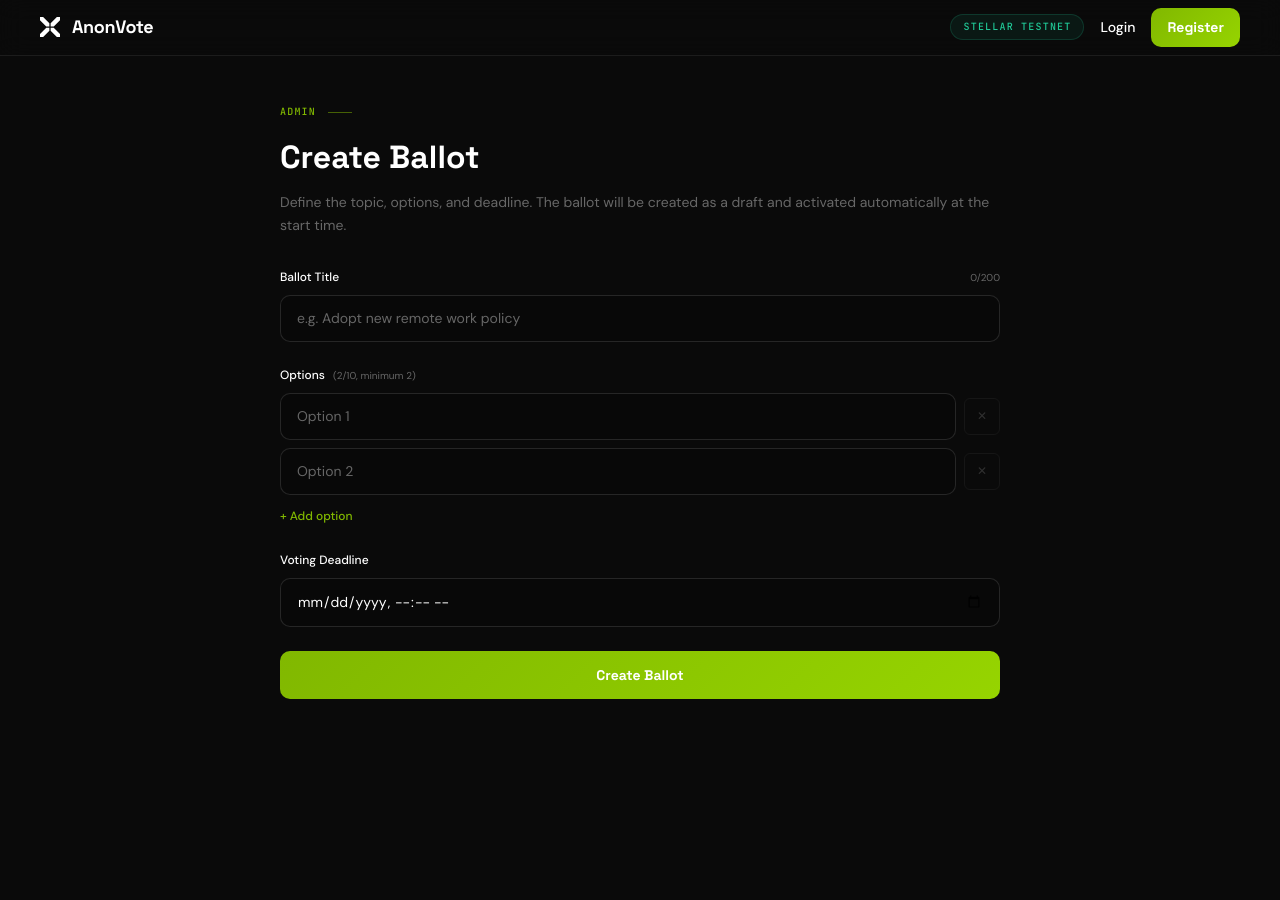
Test case: Admin CreateBallotPage — Option List › disables remove button again when options reduced back to 2
Note: Add an option
Click the button "+ Add option": (316,517) [280,507,353,526]
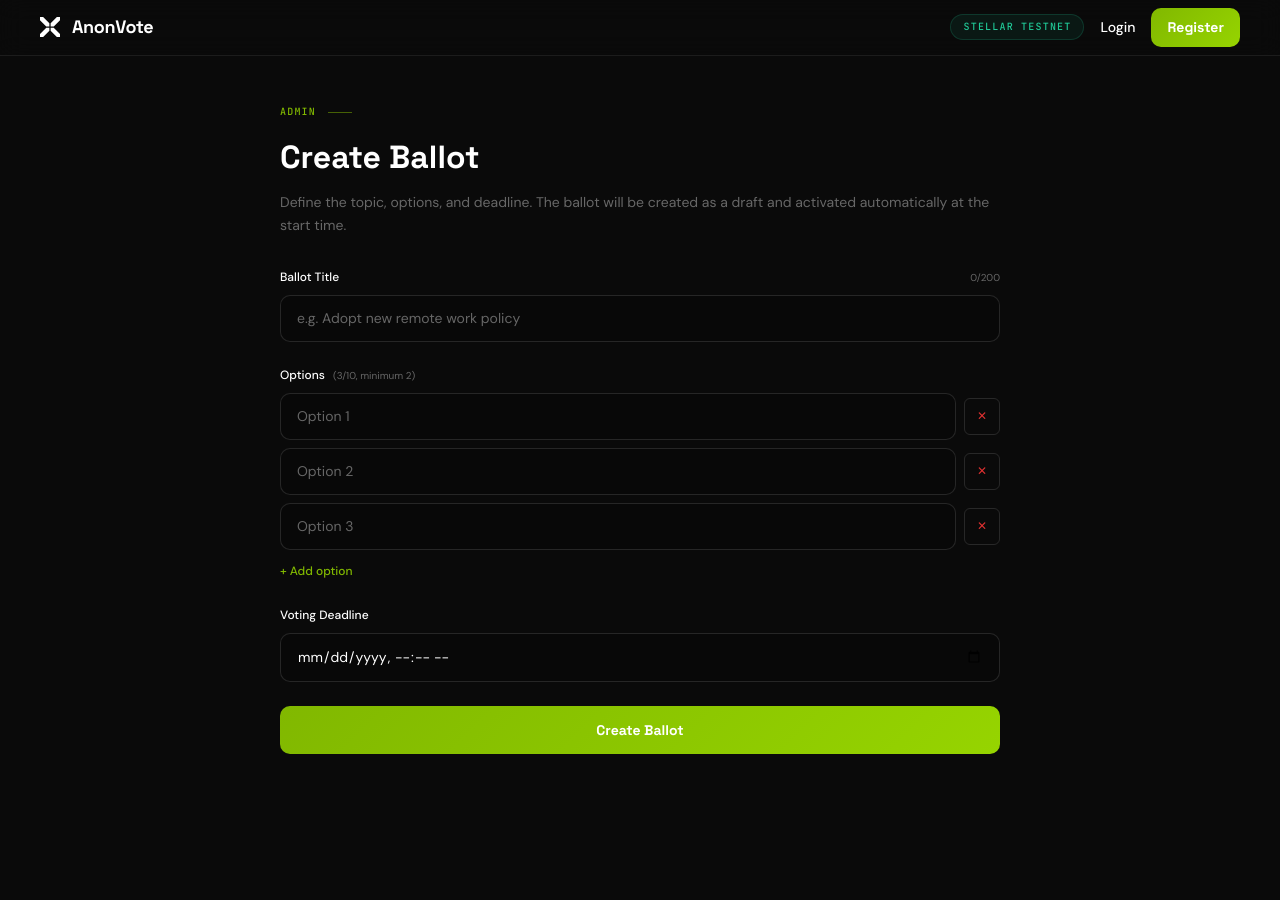
Note: Remove one option
Click the 1st button titled "Remove option": (982,417) [964,398,1000,436]
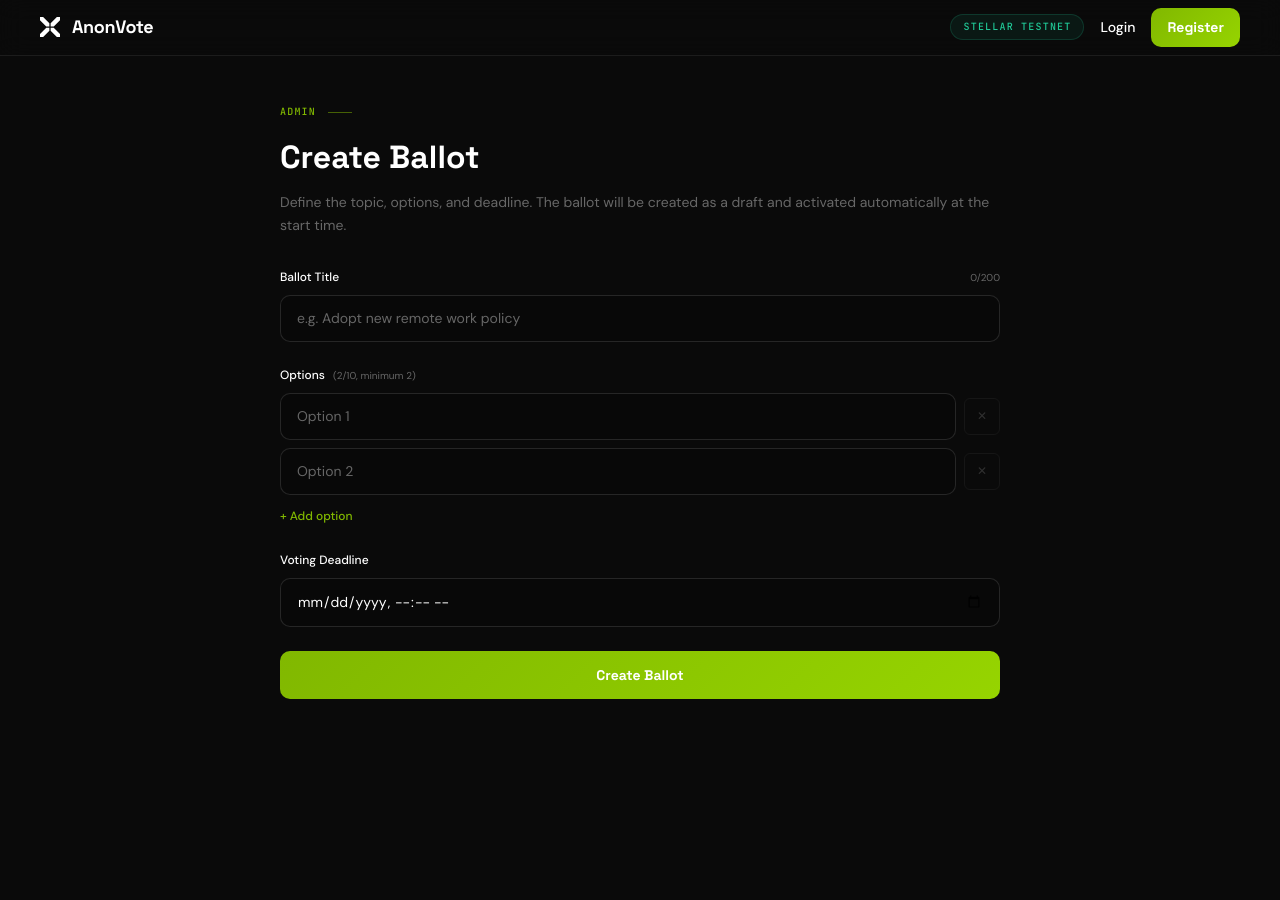
expect the number of buttons titled "Minimum 2 options required" is 2: met, box [964,398,1000,436]; [964,453,1000,490]
